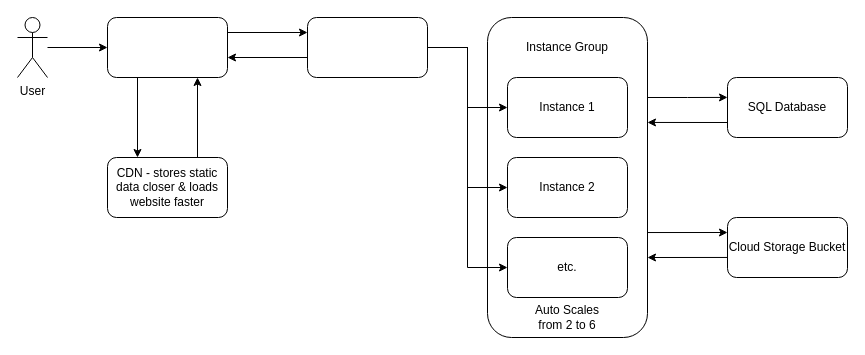
Some shapes in this 865 by 355 pixel diagram are drawn without their labels. The shapes that lost their labels are listed below. From the top down, each one's box as (x1, y1, x2, y2) in pixels, then its label:
(106, 16, 228, 78): Wordpress Website - Static IP
(306, 16, 428, 78): Load Balancer - linked to the Static IP
